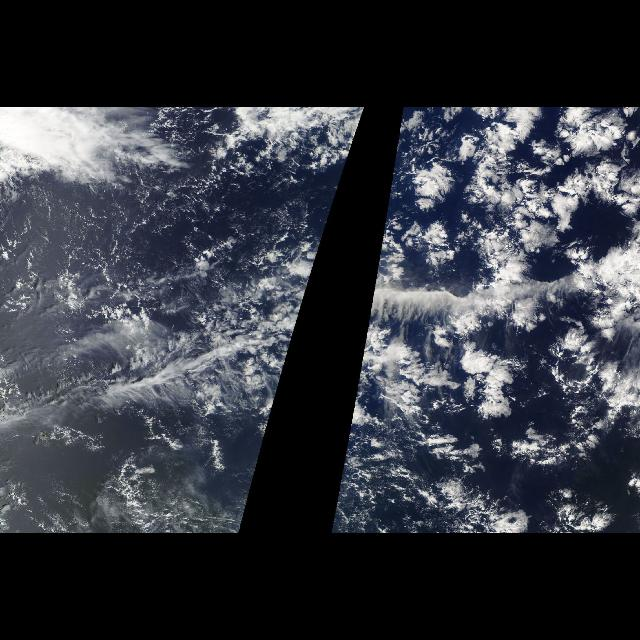Flower: (393, 107, 639, 343)
Gravel: (5, 178, 279, 310), (330, 427, 454, 533)
Sugar: (29, 191, 235, 297)
